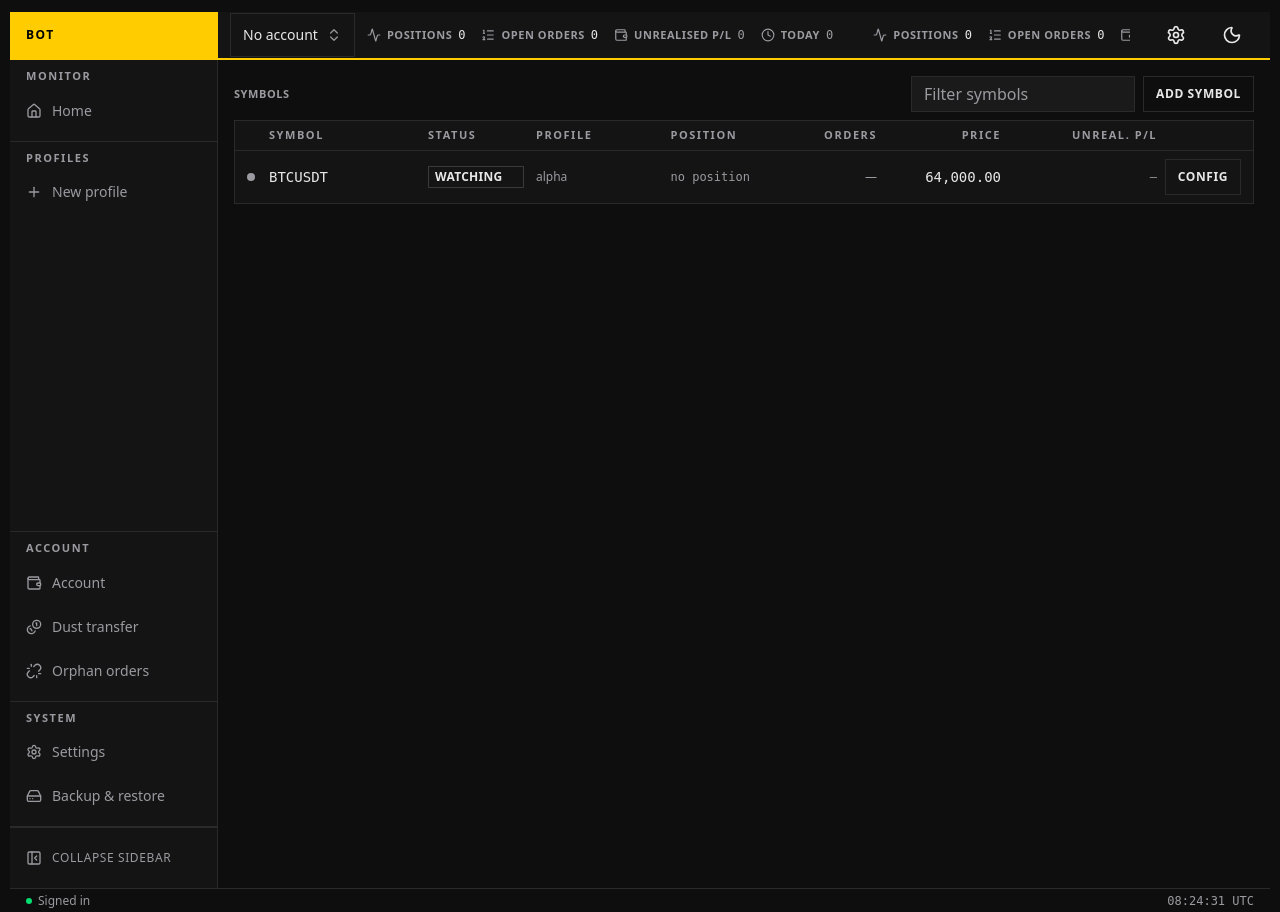
<SymbolTable> › shows the no-match state when the filter excludes every symbol
Expected: the list item with test id "symbol-row-pa-BTCUSDT" is shown, [235,150,1253,202]
Type "zzz" into the search field with test id "symbol-table-filter" at (1023, 94), box [911,76,1135,112]
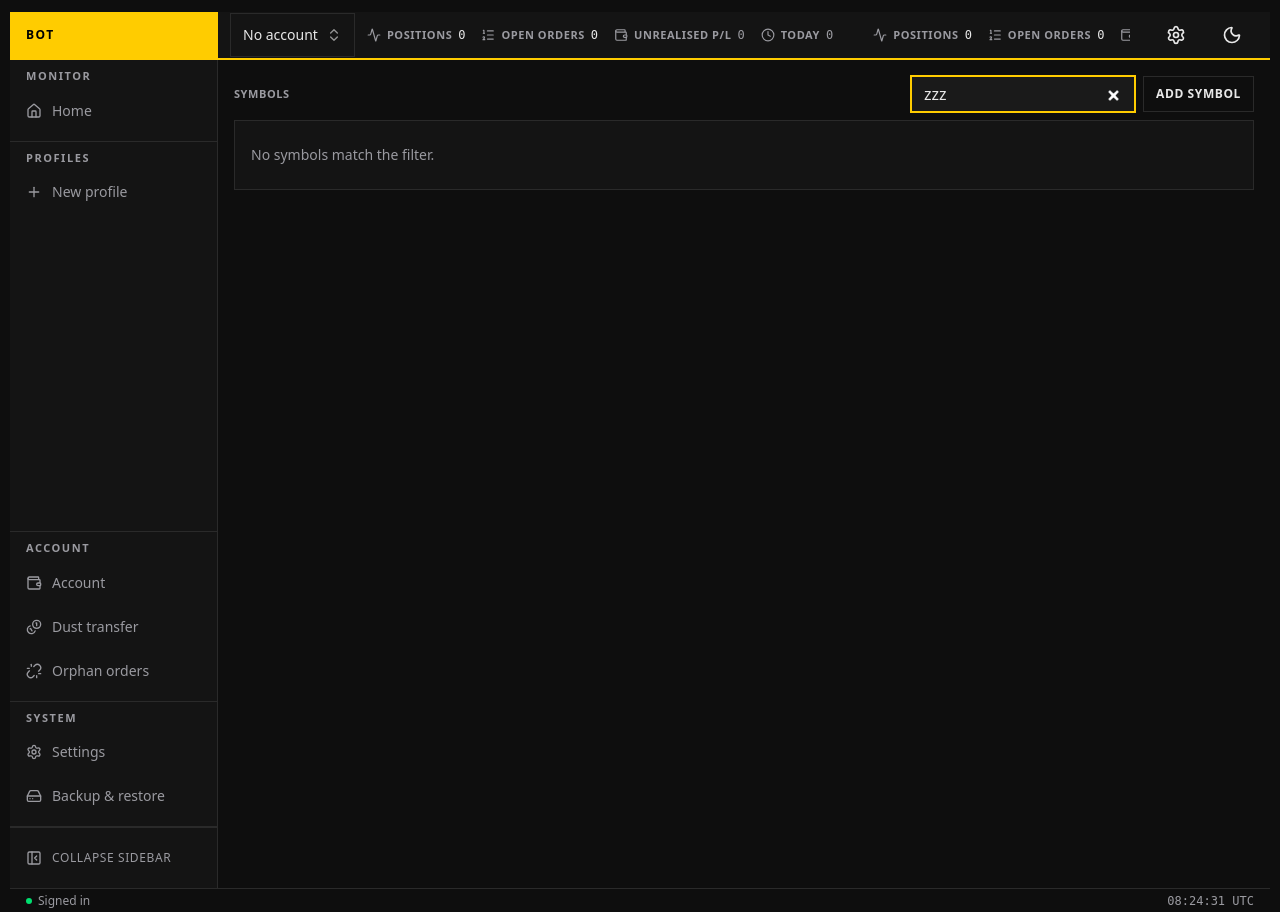
Expected: the text "No symbols match the filter." is shown, [251,145,434,164]
